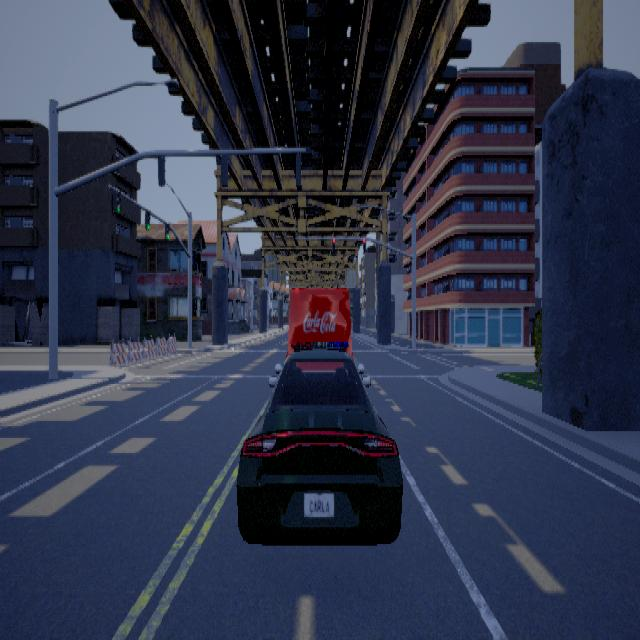green_light: (113, 189, 120, 212), (144, 207, 150, 229), (164, 221, 169, 239)
red_light: (362, 238, 365, 252), (331, 238, 334, 252)
vehicle: (235, 347, 403, 544), (287, 282, 355, 429)
